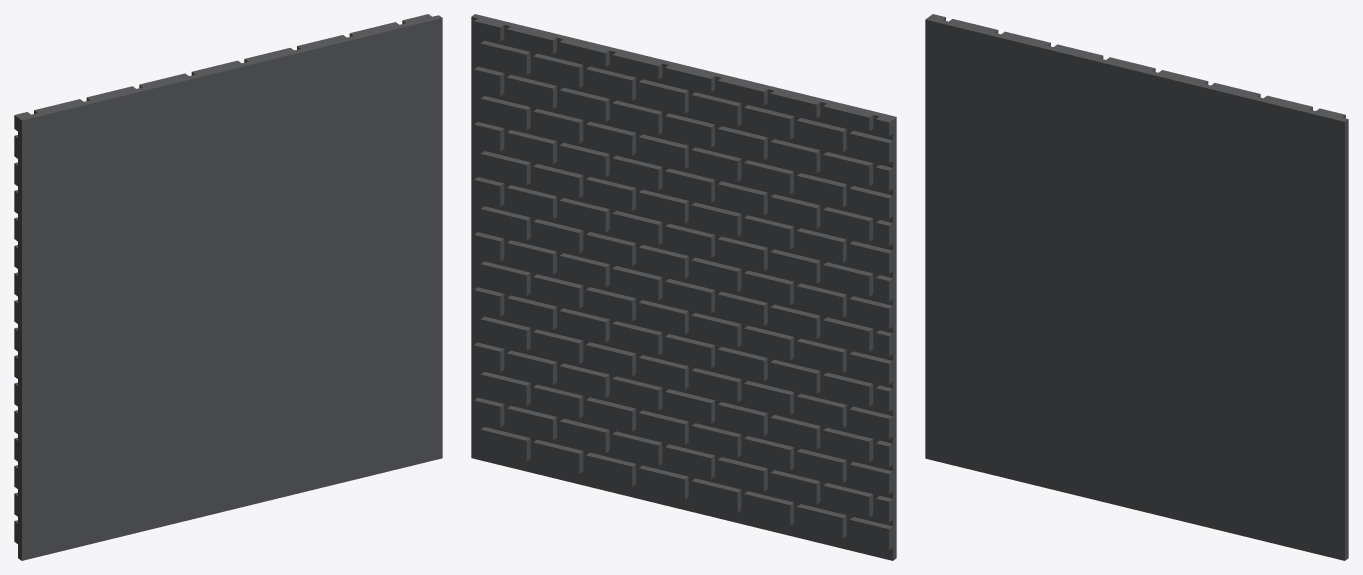
File: MapV3-34.obj
3 renders of one model, left to right at view 1: azimuth 30°, elevation 25°; view 2: azimuth 150°, elevation 25°; view 3: azimuth 330°, elevation 25°, orthographic.
Size of the model in its own units: 6.4 by 6.4 by 0.2.
Materials: 1 (1 with a texture image).
